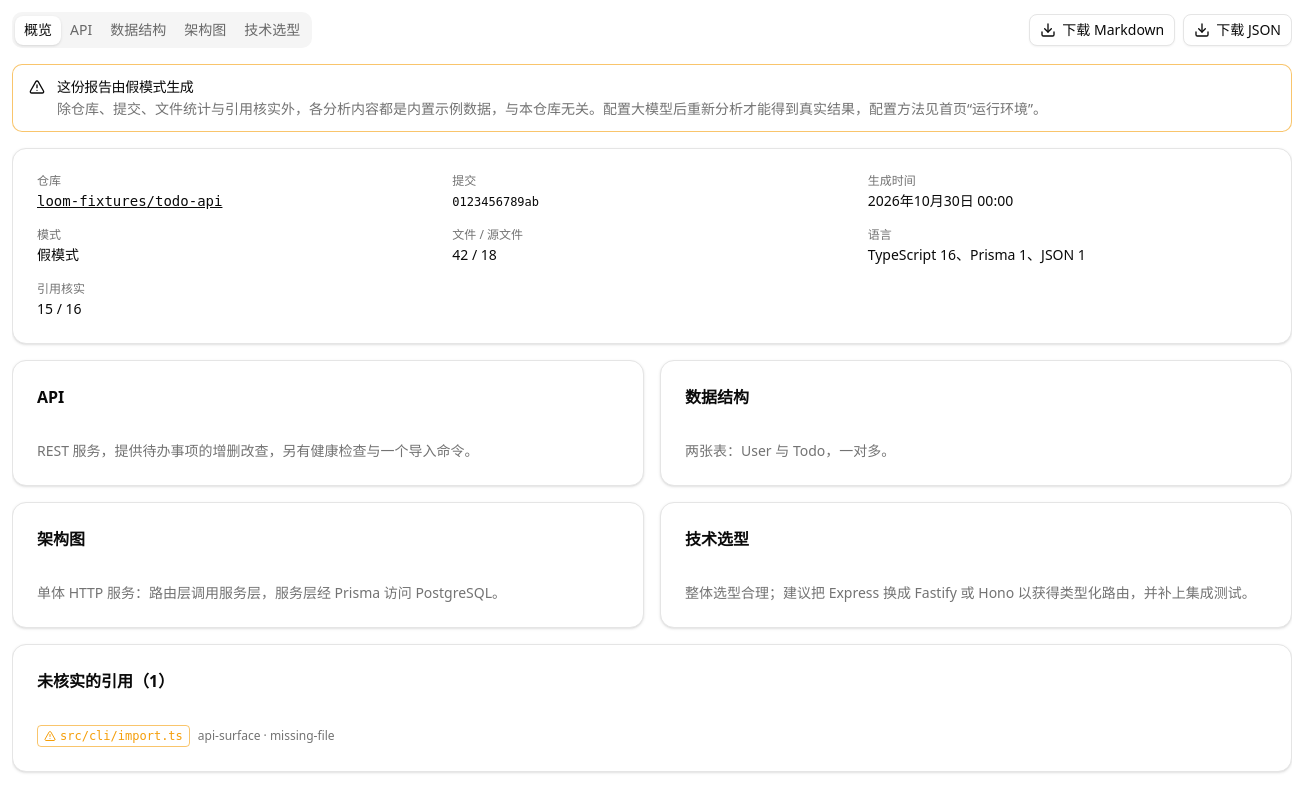
ReportTabs › shows the API catalog as a table
Click the tab "API". click: click(81, 30)
box: x1=61 y1=16 x2=101 y2=44
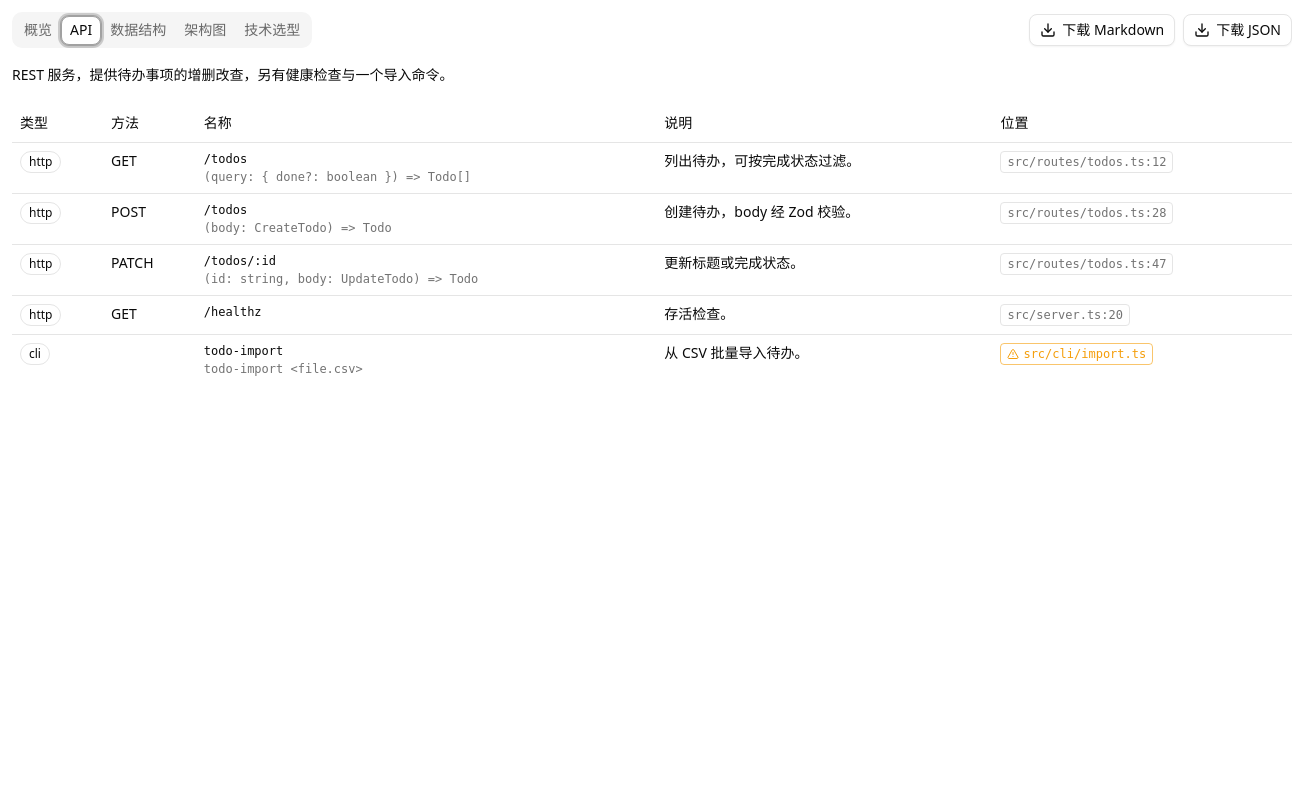
Expected: the table is shown, x1=12 y1=103 x2=1292 y2=385
Expected: the text "/todos" next to "列出待办，可按完成状态过滤。" is shown, x1=204 y1=152 x2=247 y2=166
Expected: the text "/healthz" is shown, x1=204 y1=305 x2=262 y2=319
